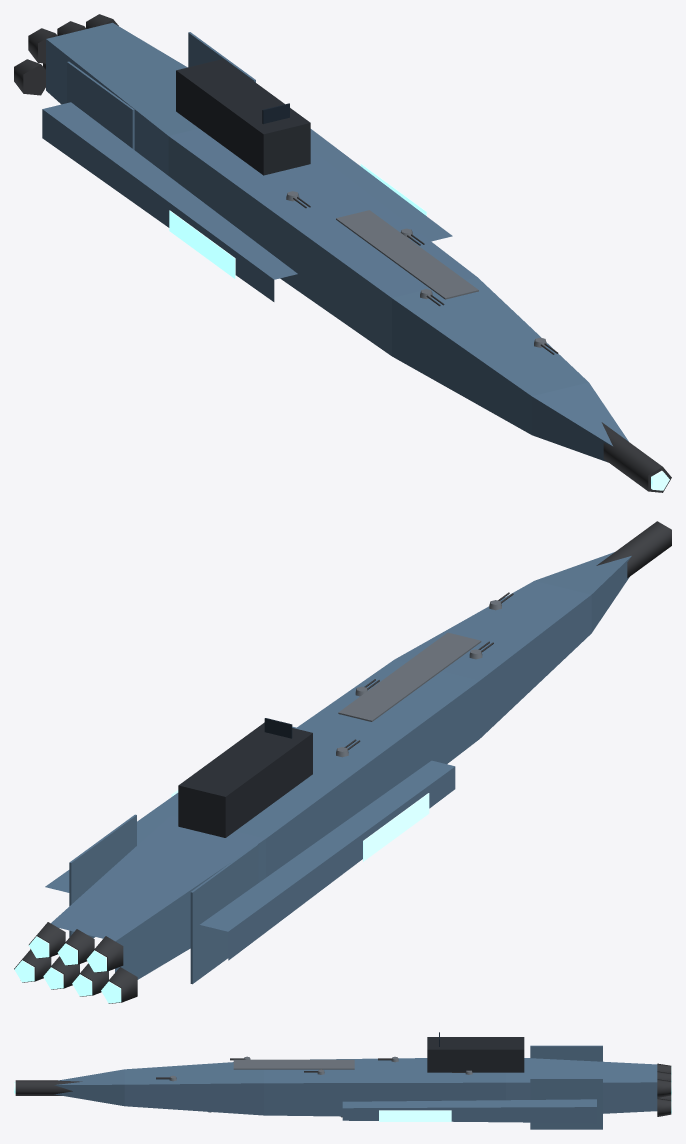
The model's file is space_ship_battleship_mk5_lod1.glb.
3 views of the same model, one above another, from view 1: azimuth 30°, elevation 25°; view 2: azimuth 150°, elevation 25°; view 3: azimuth 270°, elevation 25° (orthographic). The views are drawn at different scales.
Visible parts, largest first — view 1: body, main_gun, hangar_r, engine_0; view 2: body, main_gun, hangar_r, engine_1, engine_0, engine_3, engine_5, engine_6, engine_2, engine_4; view 3: body, hangar_l, main_gun, engine_5, engine_6.
Part boxes in pixels (<box>): body: <box>42,22,628,462</box>; main_gun: <box>601,422,671,492</box>; hangar_r: <box>169,210,235,278</box>; engine_0: <box>14,59,45,95</box>; body: <box>45,552,631,984</box>; main_gun: <box>596,521,671,578</box>; hangar_r: <box>363,793,429,861</box>; engine_1: <box>86,936,123,972</box>; engine_0: <box>100,967,137,1003</box>; engine_3: <box>57,929,94,965</box>; engine_5: <box>28,922,65,958</box>; engine_6: <box>14,949,51,982</box>; engine_2: <box>72,963,108,996</box>; engine_4: <box>43,956,79,989</box>; body: <box>54,1032,657,1129</box>; hangar_l: <box>379,1110,451,1121</box>; main_gun: <box>14,1080,82,1095</box>; engine_5: <box>657,1079,671,1097</box>; engine_6: <box>657,1098,671,1116</box>.
Size of the model in its own units: 28.5 by 19.82 by 153.
